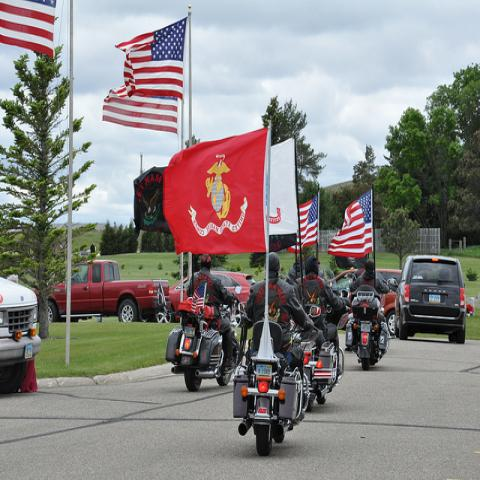car: (48, 260, 170, 327), (388, 255, 467, 343), (0, 272, 43, 392), (328, 269, 402, 337), (167, 269, 257, 324)
motorcycle: (230, 320, 305, 462), (164, 312, 252, 390), (294, 324, 344, 405), (346, 292, 388, 373)
truck: (48, 258, 169, 326), (0, 275, 44, 395)
